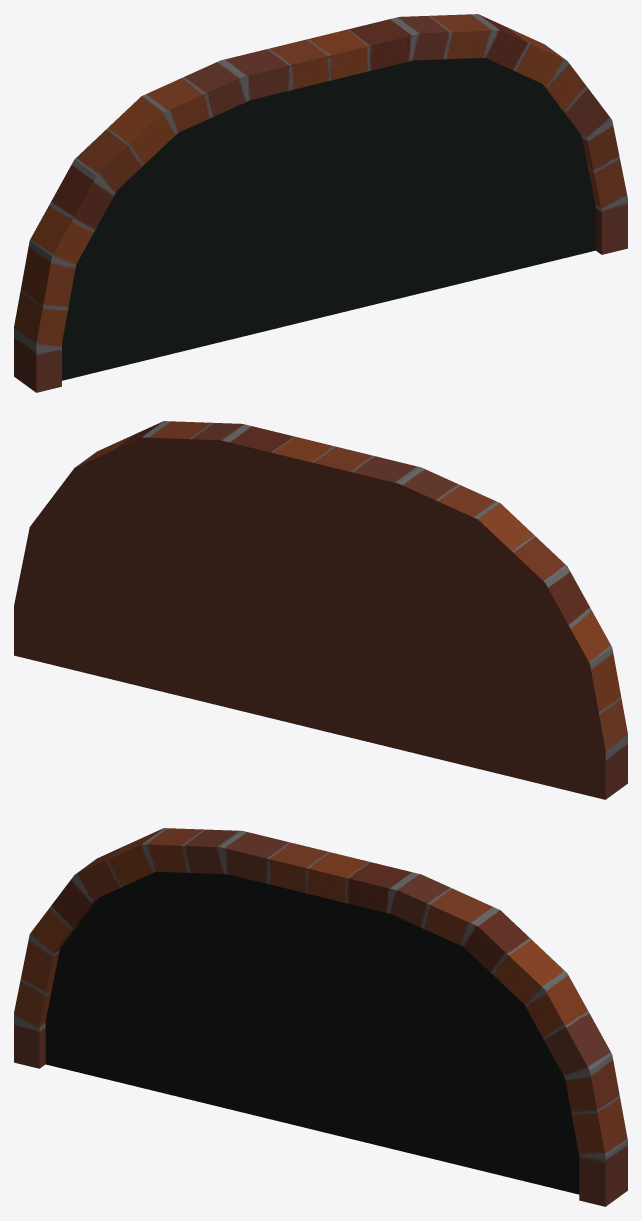
File: board.glb
3 renders of one model, top to bottom at view 1: azimuth 30°, elevation 25°; view 2: azimuth 150°, elevation 25°; view 3: azimuth 330°, elevation 25°, orthographic.
Parts seen in each view (by area): view 1: Board; view 2: Board; view 3: Board.
Part boxes in pixels (x1=…): Board: x1=14, y1=14, x2=627, y2=392; Board: x1=14, y1=421, x2=627, y2=799; Board: x1=14, y1=828, x2=627, y2=1206.
Bounding box in the file's own units: 5.18 × 2.22 × 0.3396.
1 material, 1 textured.
